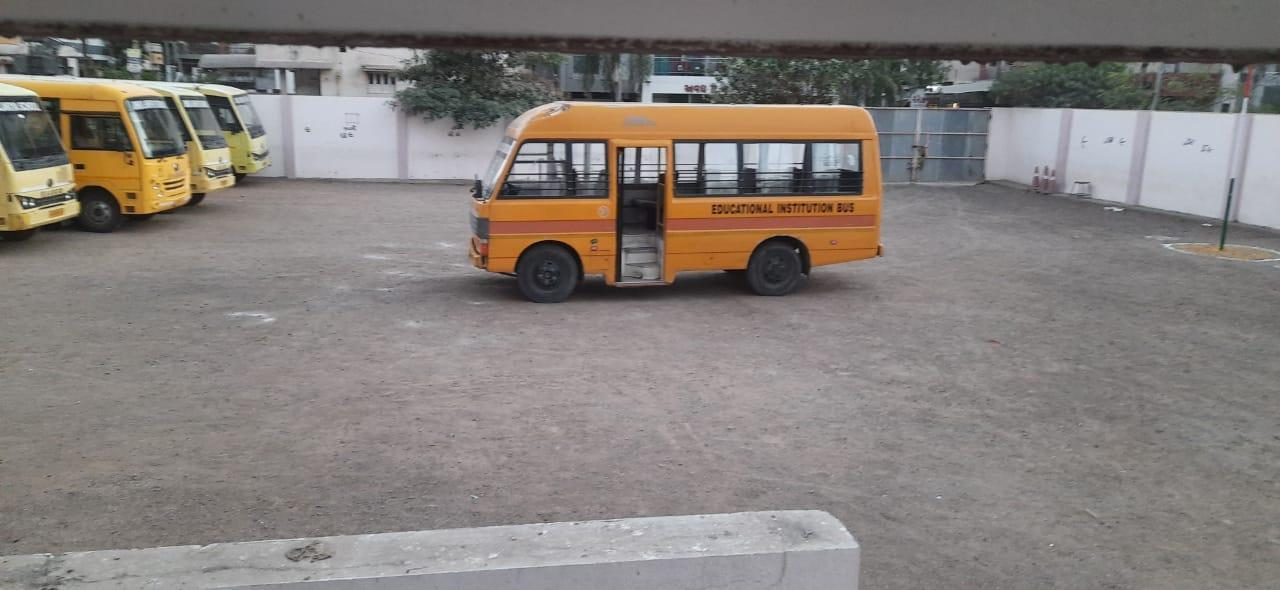Bus: (457, 89, 912, 309), (88, 84, 195, 220), (3, 99, 77, 239), (180, 90, 237, 204), (219, 85, 277, 185)
